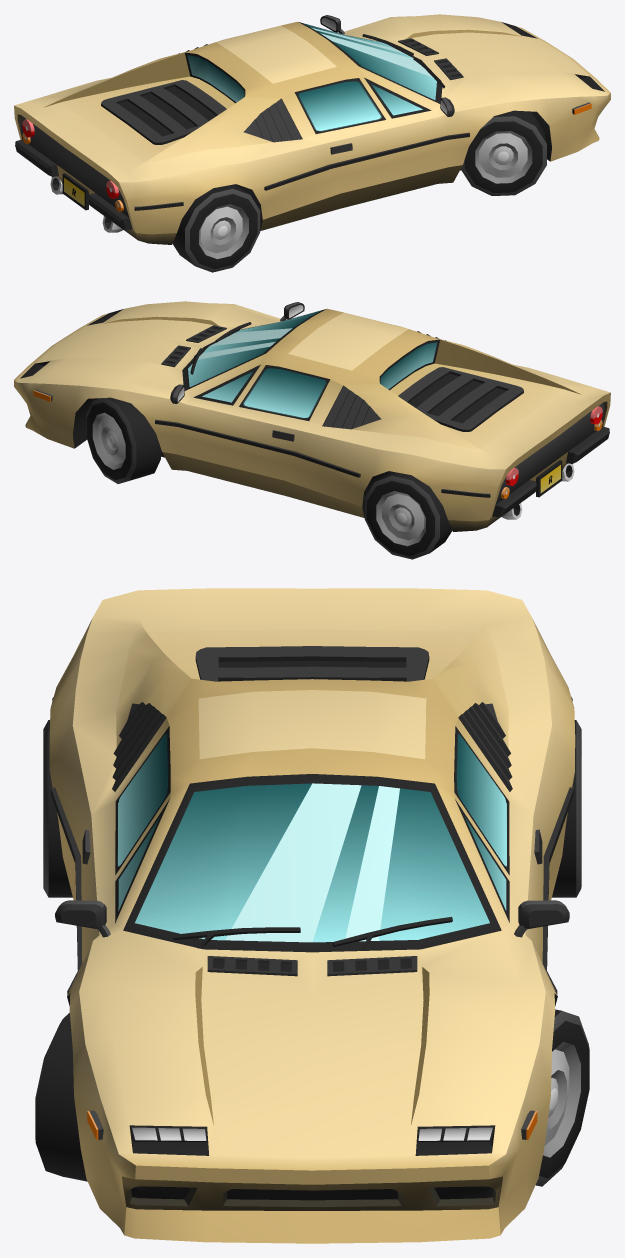
File: Car_077.glb
3 views of the same model, one above another, from view 1: azimuth 30°, elevation 25°; view 2: azimuth 150°, elevation 25°; view 3: azimuth 270°, elevation 25° (orthographic). The views are drawn at different scales.
Visible parts, largest first — view 1: Car_077, wheel_3_Car_077_Wheel_3R, wheel_0_Car_077_Wheel_1R; view 2: Car_077, wheel_2_Car_077_Wheel_3L, wheel_1_Car_077_Wheel_2L; view 3: Car_077, wheel_1_Car_077_Wheel_2L, wheel_0_Car_077_Wheel_1R, wheel_2_Car_077_Wheel_3L, wheel_3_Car_077_Wheel_3R.
Boxes of the visible parts, left/top/right/bottom form: Car_077: left=14, top=14, right=610, bottom=244; wheel_3_Car_077_Wheel_3R: left=172, top=184, right=260, bottom=272; wheel_0_Car_077_Wheel_1R: left=461, top=110, right=546, bottom=195; Car_077: left=14, top=301, right=610, bottom=531; wheel_2_Car_077_Wheel_3L: left=364, top=471, right=452, bottom=559; wheel_1_Car_077_Wheel_2L: left=86, top=397, right=160, bottom=483; Car_077: left=49, top=588, right=575, bottom=1243; wheel_1_Car_077_Wheel_2L: left=536, top=1009, right=589, bottom=1186; wheel_0_Car_077_Wheel_1R: left=35, top=1012, right=87, bottom=1181; wheel_2_Car_077_Wheel_3L: left=552, top=720, right=581, bottom=897; wheel_3_Car_077_Wheel_3R: left=43, top=720, right=72, bottom=897.
Bounding box in the file's own units: 4.88 × 1.31 × 2.3.
Materials: 1 (1 with a texture image).
